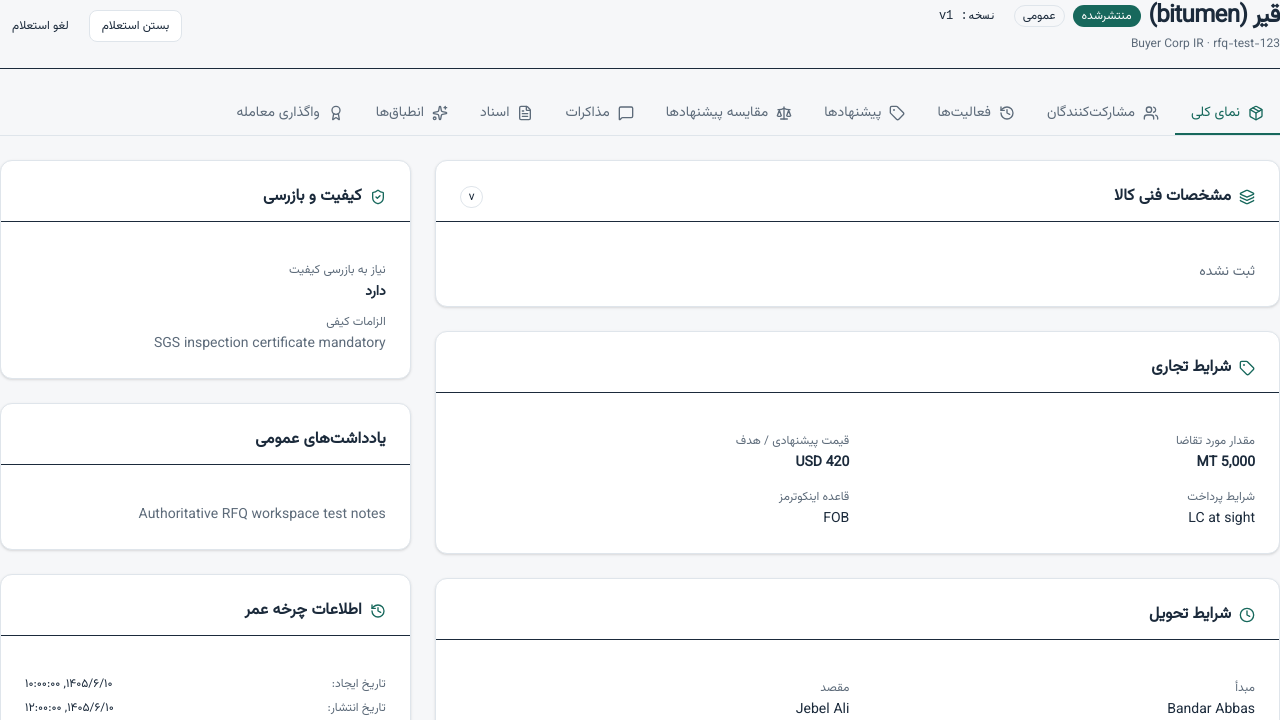
Scenario: T0507 - RFQ Workspace Component Suite › 4. renders Activity timeline facts strictly without exposing competitor events
Click the button "فعالیت‌ها". click: [976, 114]
box: [921,93,1031,135]
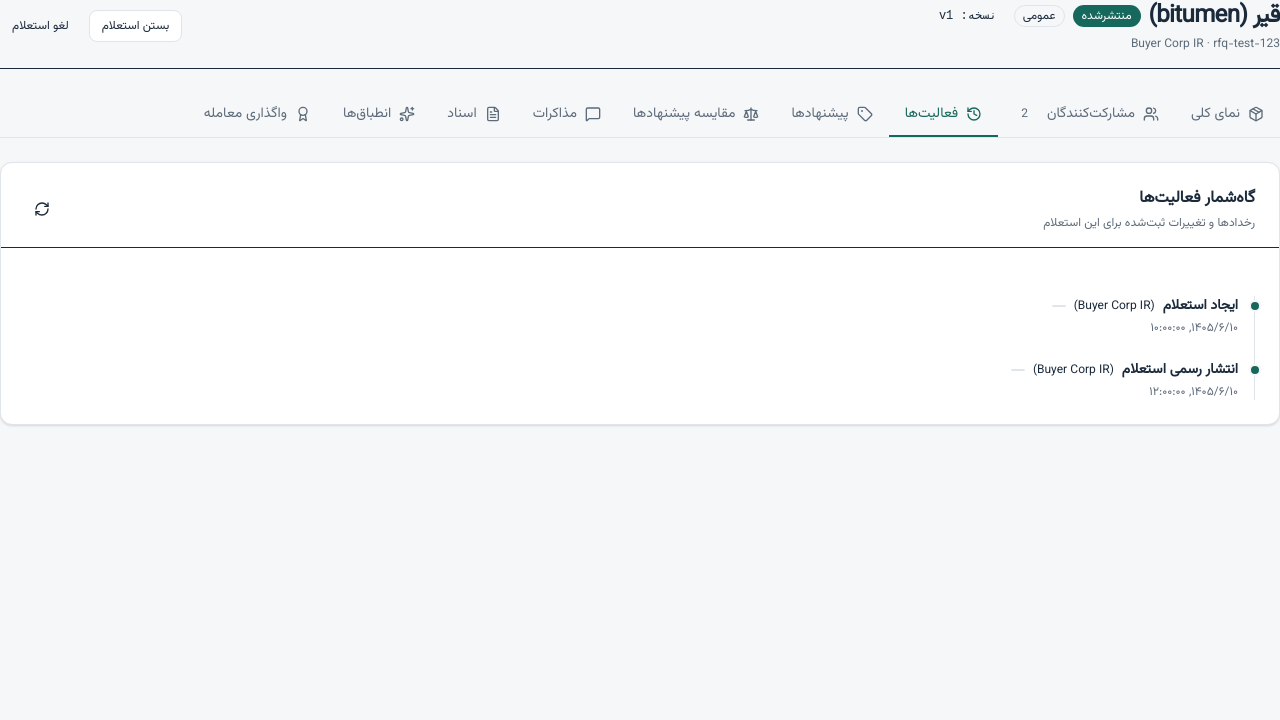
Check: the text "ایجاد استعلام" is shown, box [1163,296,1238,316]
Check: the text "انتشار رسمی استعلام" is shown, box [1122,360,1238,380]
